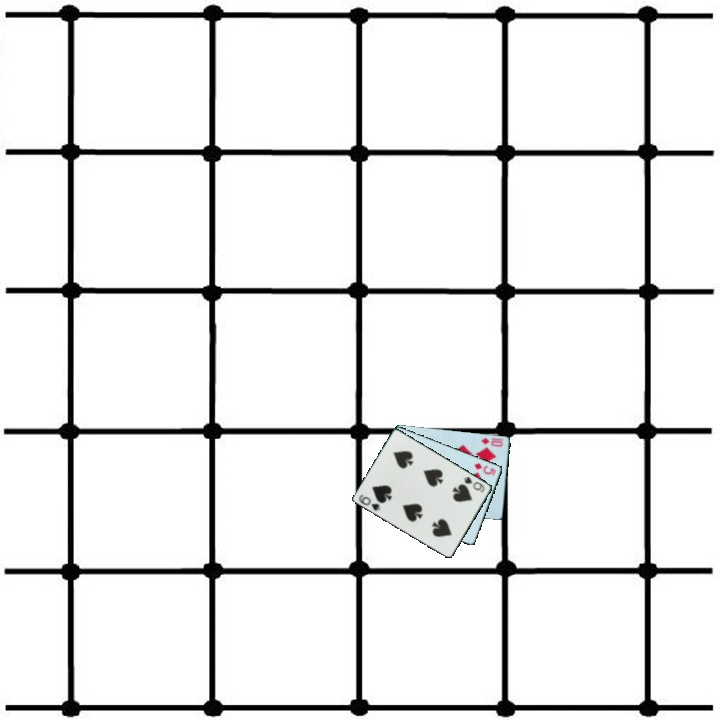10d: (478, 434, 506, 449)
5d: (471, 459, 499, 478)
6s: (356, 491, 383, 514), (460, 473, 488, 495)
